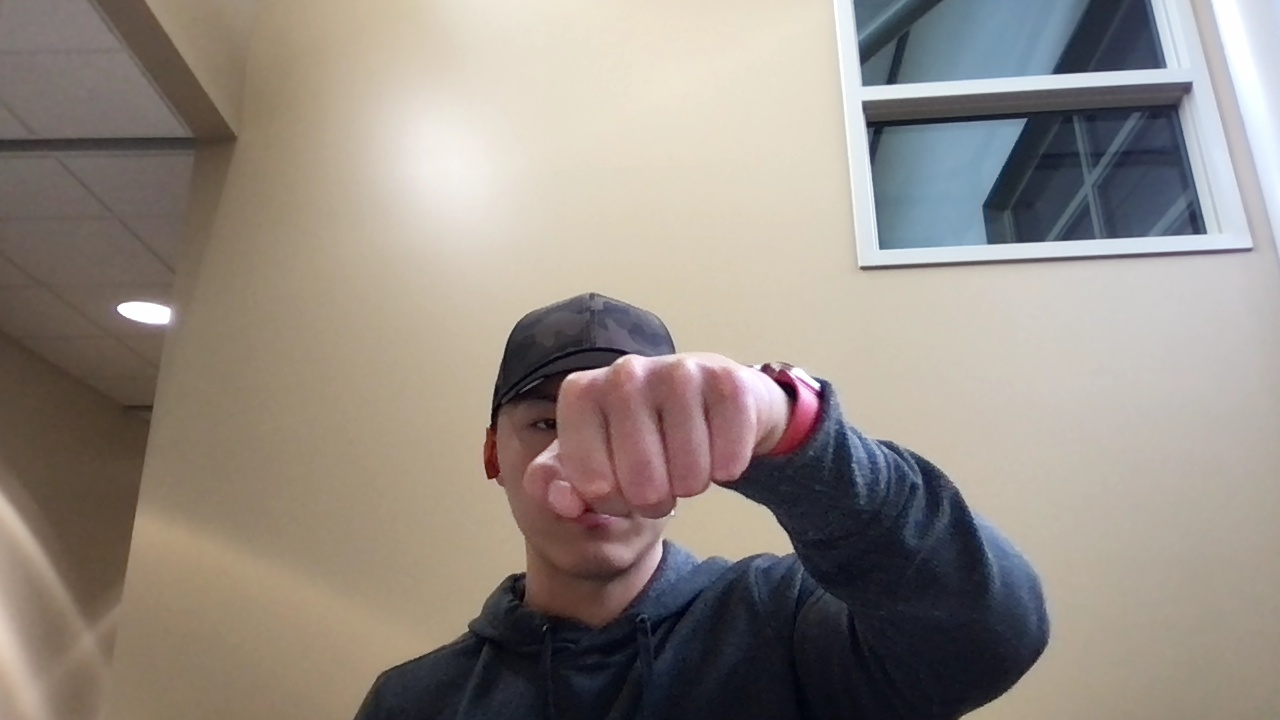Yes: (521, 356, 784, 524)
